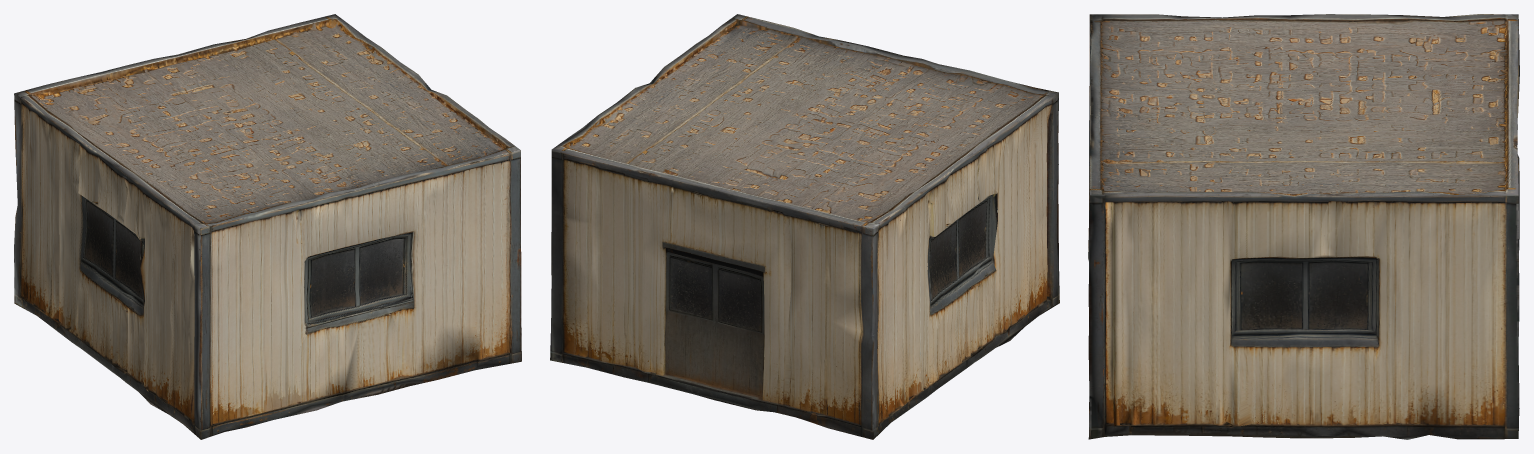
Rendered from EX_Camp_WallWindow.fbx.
The picture shows the model from 3 angles, left to right: view 1: azimuth 30°, elevation 25°; view 2: azimuth 150°, elevation 25°; view 3: azimuth 270°, elevation 25°; orthographic projection. The views are drawn at different scales.
Parts seen in each view (by area): view 1: texture_mapping; view 2: texture_mapping; view 3: texture_mapping.
Part boxes in pixels (box(x1,y1,x2,y2)): texture_mapping: box(14, 14, 521, 439); texture_mapping: box(550, 14, 1059, 439); texture_mapping: box(1088, 14, 1519, 439).
Size of the model in its own units: 1 by 1 by 0.6325.
1 material, 1 textured.
